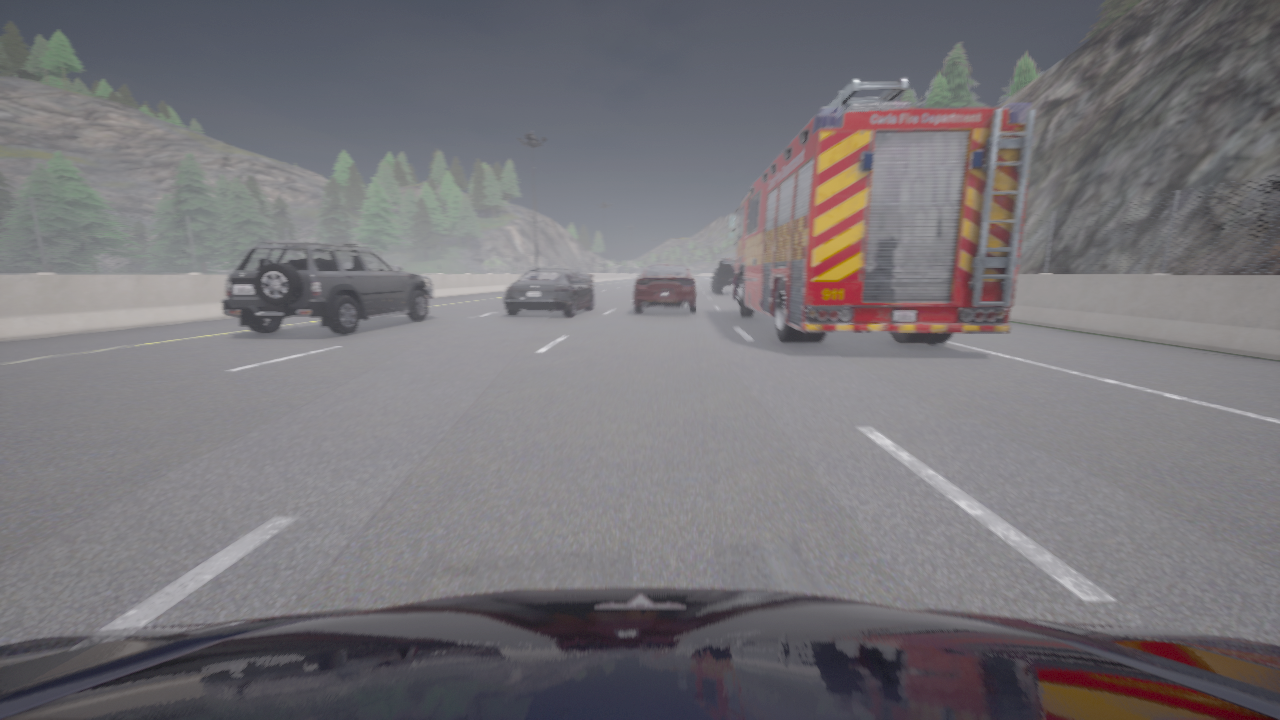cyclist: (0, 588, 1279, 719), (726, 78, 1035, 344), (222, 242, 432, 334), (503, 268, 593, 316), (634, 263, 698, 313), (711, 259, 734, 294), (570, 269, 592, 289)
